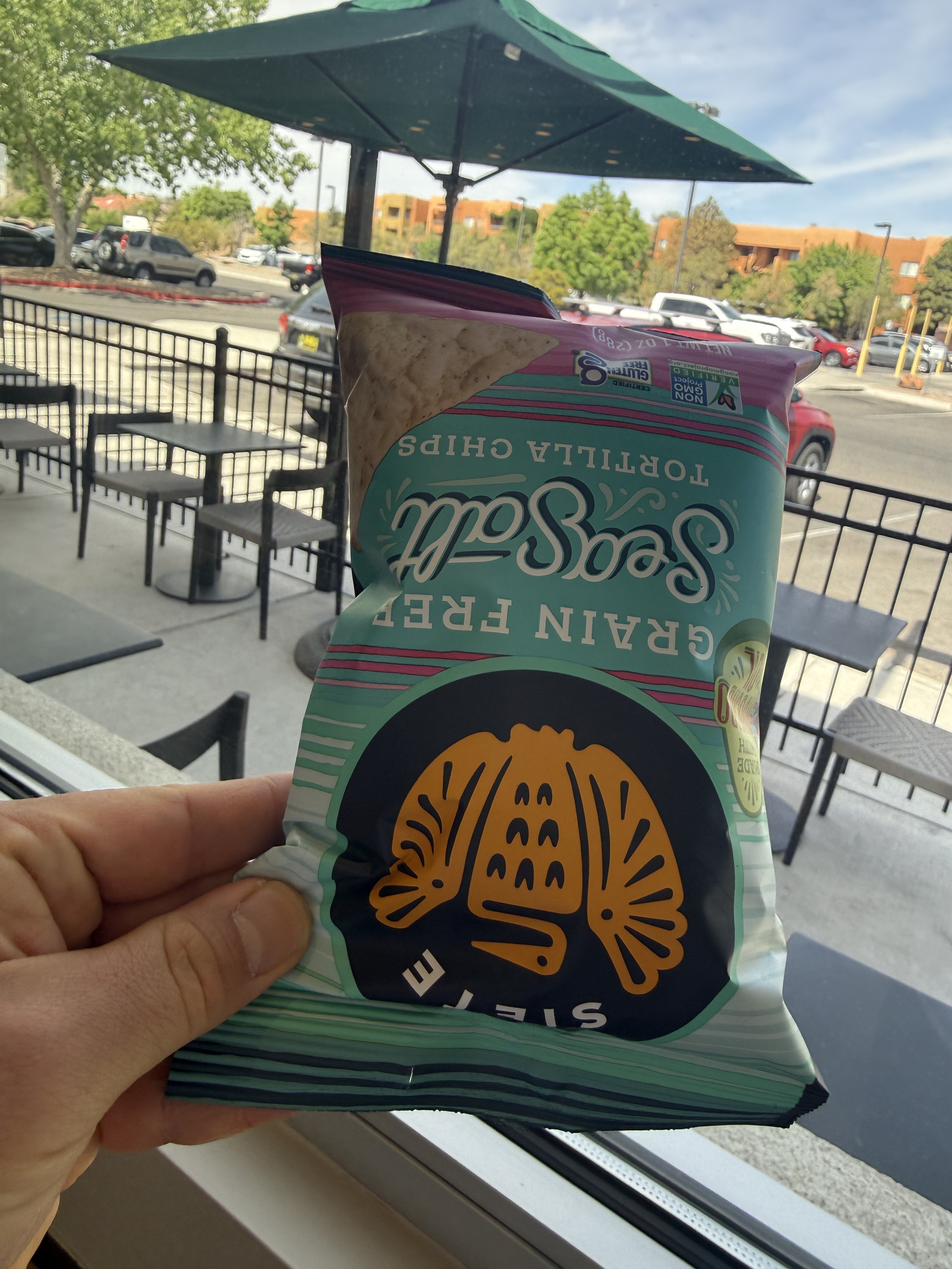sea_salt: (309, 243, 818, 1132)
